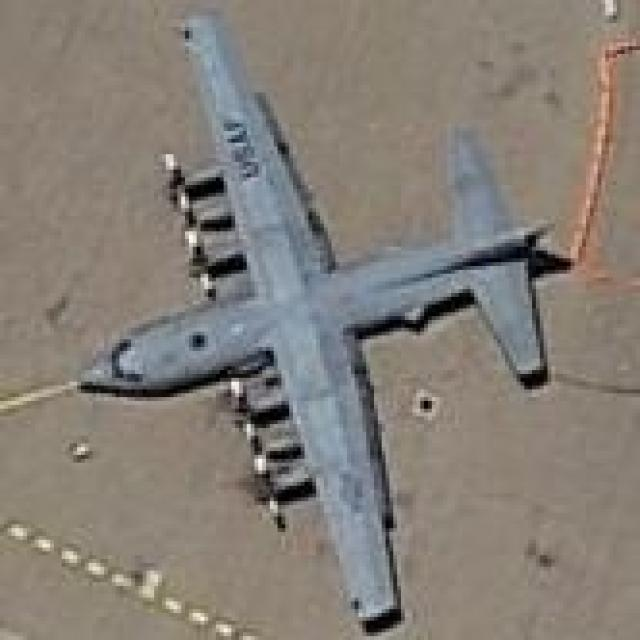C-130_TopDown: (68, 7, 571, 638)
